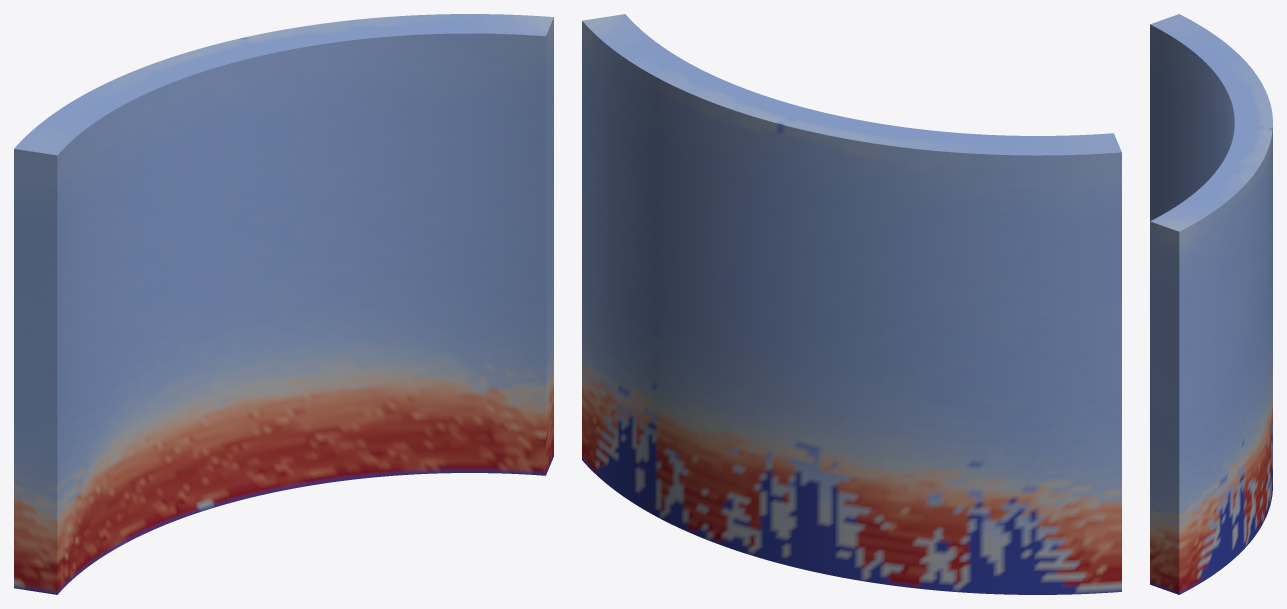
File: 2024-0826-UParaWReverse-Hardness_Static.glb
The picture shows the model from 3 angles, left to right: view 1: azimuth 30°, elevation 25°; view 2: azimuth 150°, elevation 25°; view 3: azimuth 270°, elevation 25°; orthographic projection. The views are drawn at different scales.
Visible parts, largest first — view 1: 2024-0826-UParaWReverse-Hardness_0; view 2: 2024-0826-UParaWReverse-Hardness_0; view 3: 2024-0826-UParaWReverse-Hardness_0.
Boxes of the visible parts, x1,y1,x2,y2 form: 2024-0826-UParaWReverse-Hardness_0: [14, 14, 553, 594]; 2024-0826-UParaWReverse-Hardness_0: [582, 14, 1121, 594]; 2024-0826-UParaWReverse-Hardness_0: [1150, 14, 1272, 594].
Bounding box in the file's own units: 1.35 × 1.05 × 0.3222.
